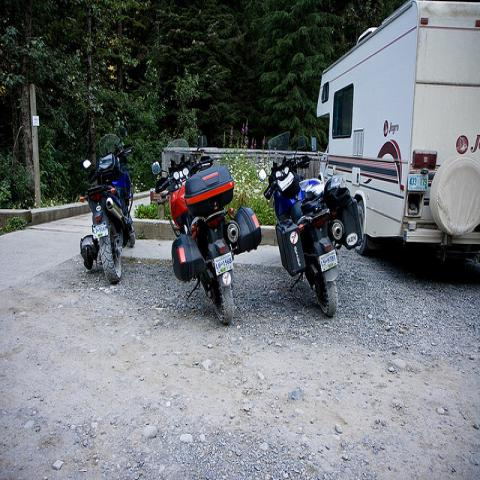motorcycle: (152, 132, 262, 324), (258, 130, 364, 316), (84, 132, 136, 284)
truck: (318, 0, 479, 253)
